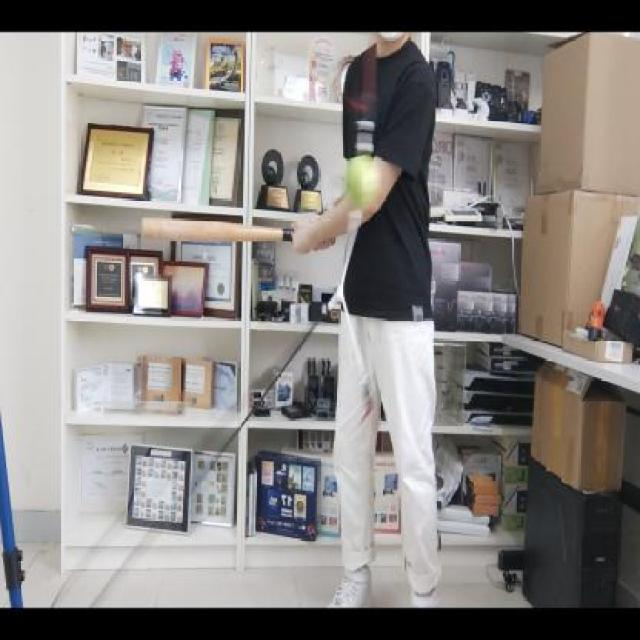baseball: (342, 150, 384, 216)
